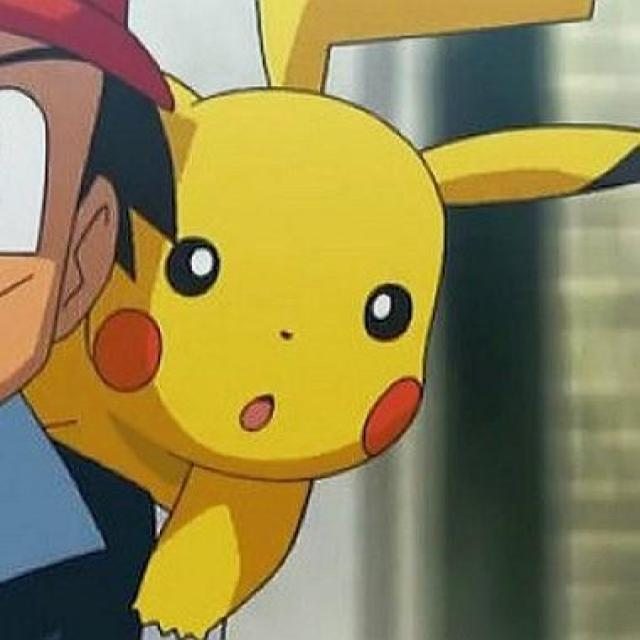pikachu: (18, 0, 638, 637)
